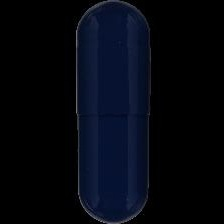50268-671: (0, 0, 224, 224)
